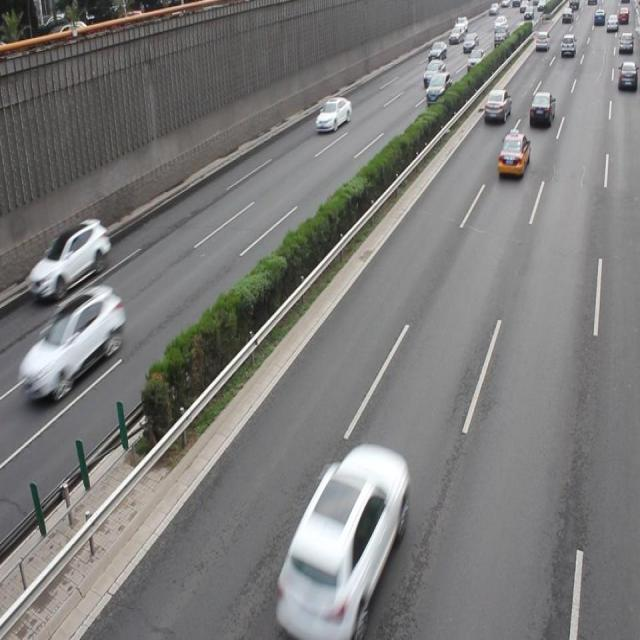car: (275, 439, 408, 640), (20, 282, 124, 398), (30, 216, 111, 300), (496, 132, 530, 176), (316, 95, 351, 134), (482, 87, 510, 124), (528, 91, 554, 127)
